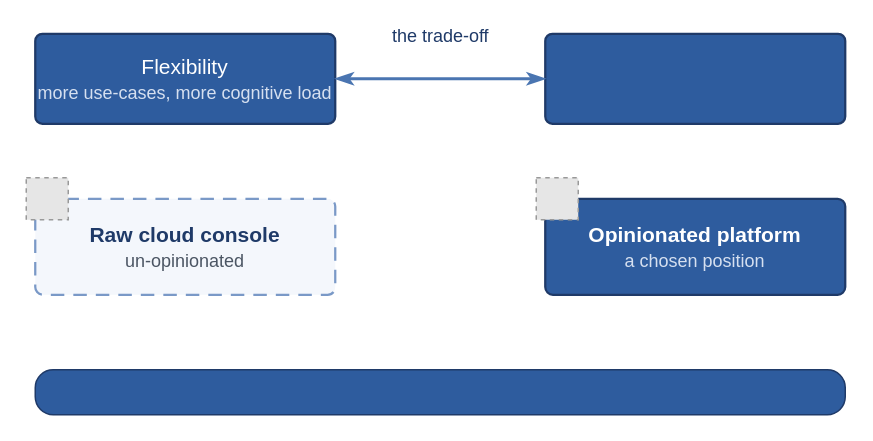
This 873x441 diagram has some shape labels left out. Grey dashed boxes stand in for pictures. The shapes that lost their labels are listed below. From the top down, each one's centre as x and y in pixels, then its label:
At point 694,78: "Usability fewer use-cases, less cognitive load".
At point 439,391: "choose the position first, then vendors are a compatibility question".
